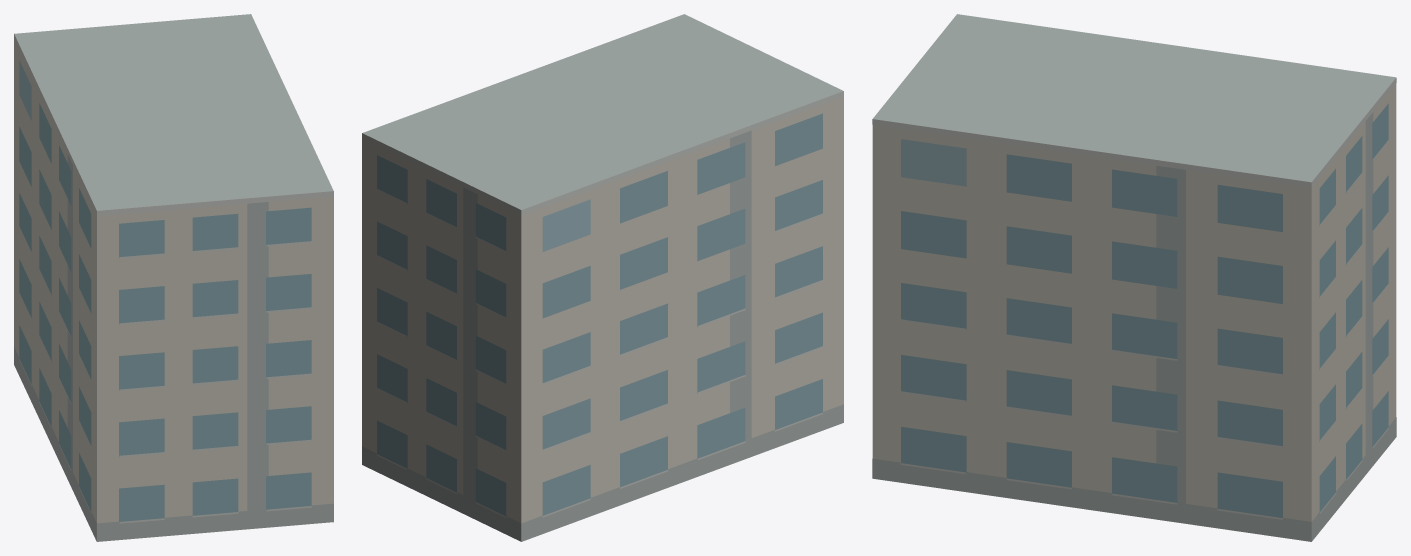
The model's file is residential-fc102fa7-55b3-4ad0-bb42-c92d6b41e052.glb.
The picture shows the model from 3 angles, left to right: view 1: azimuth 30°, elevation 25°; view 2: azimuth 150°, elevation 25°; view 3: azimuth 270°, elevation 25°; orthographic projection. The views are drawn at different scales.
Parts seen in each view (by area): view 1: residential-fc102fa7-55b3-4ad0-bb42-c92d6b41e052.tmp; view 2: residential-fc102fa7-55b3-4ad0-bb42-c92d6b41e052.tmp; view 3: residential-fc102fa7-55b3-4ad0-bb42-c92d6b41e052.tmp.
Part boxes in pixels (x1,y1,x2,y2): residential-fc102fa7-55b3-4ad0-bb42-c92d6b41e052.tmp: (14,14,333,541); residential-fc102fa7-55b3-4ad0-bb42-c92d6b41e052.tmp: (362,14,843,541); residential-fc102fa7-55b3-4ad0-bb42-c92d6b41e052.tmp: (872,14,1396,541).
Size of the model in its own units: 15.32 by 15.25 by 20.15.
